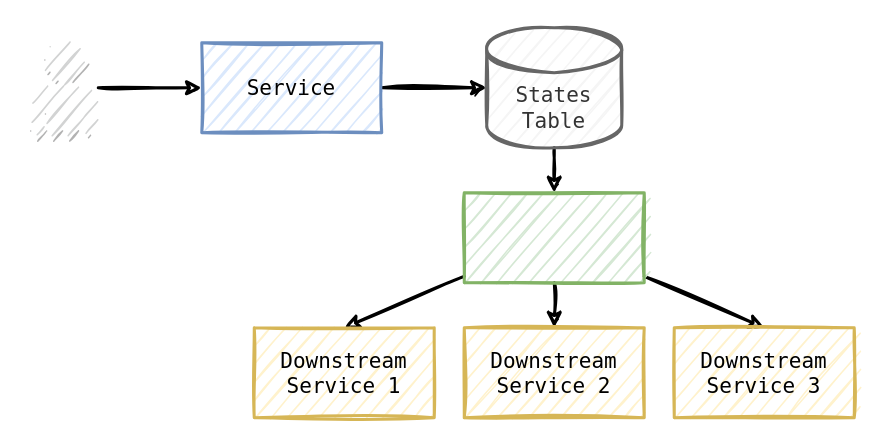
The diagram is 881 pixels wide and 444 high, and some of its shapes have lost their labels. Here are the shapes that lost their labels. From the top down, the centre of each, then its label:
At (x=63, y=87): "Client".
At (x=553, y=237): "Worker".
